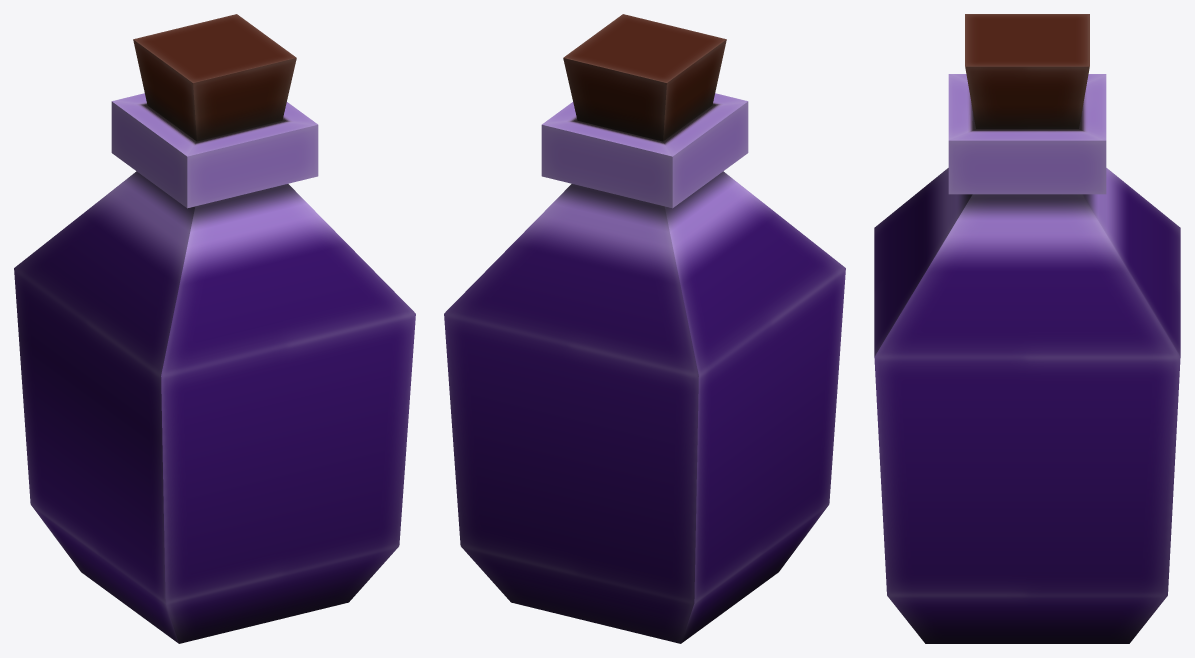
The model's file is bottle.FBX.
3 views of the same model, side by side, from view 1: azimuth 30°, elevation 25°; view 2: azimuth 150°, elevation 25°; view 3: azimuth 270°, elevation 25° (orthographic). The views are drawn at different scales.
Visible parts, largest first — view 1: Box001; view 2: Box001; view 3: Box001.
Boxes of the visible parts, left/top/right/bottom form: Box001: left=14, top=14, right=415, bottom=643; Box001: left=444, top=14, right=845, bottom=643; Box001: left=874, top=14, right=1180, bottom=643.
Bounding box in the file's own units: 179 × 362 × 179.
1 material, 1 textured.
